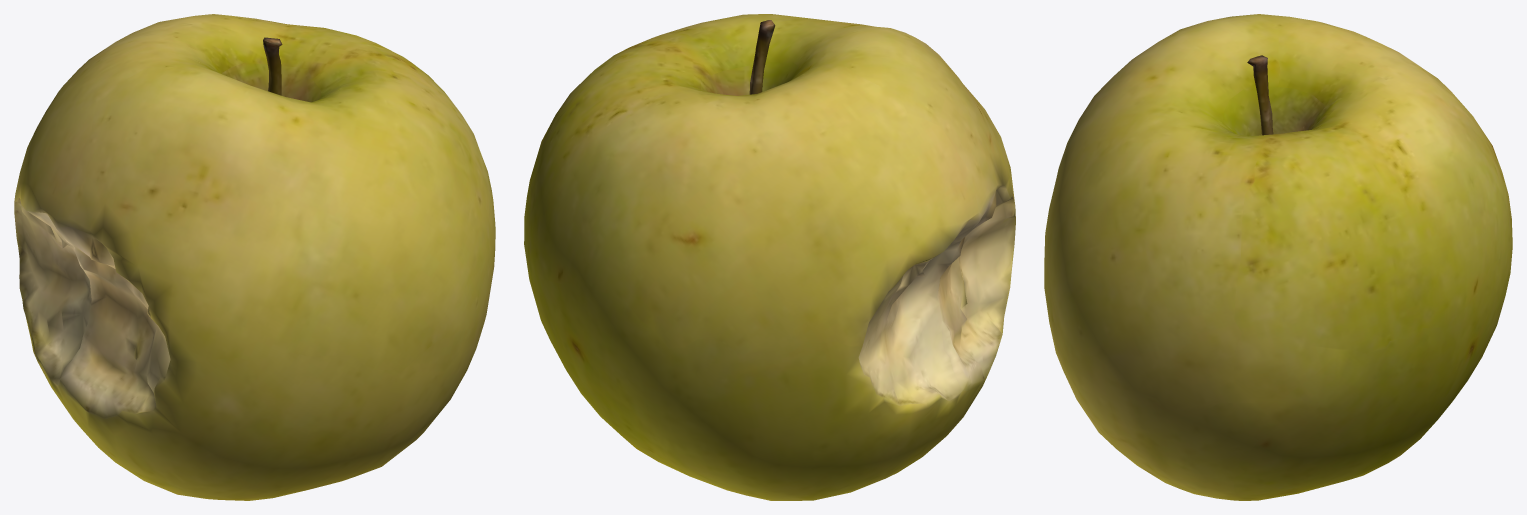
The model's file is apple_c.glb.
3 views of the same model, side by side, from view 1: azimuth 30°, elevation 25°; view 2: azimuth 150°, elevation 25°; view 3: azimuth 270°, elevation 25° (orthographic). The views are drawn at different scales.
Parts seen in each view (by area): view 1: tehuccela_LOD0_TIER2_000; view 2: tehuccela_LOD0_TIER2_000; view 3: tehuccela_LOD0_TIER2_000.
Part boxes in pixels (<box>): tehuccela_LOD0_TIER2_000: <box>14,14,495,500</box>; tehuccela_LOD0_TIER2_000: <box>524,14,1015,500</box>; tehuccela_LOD0_TIER2_000: <box>1044,14,1512,500</box>.
Size of the model in its own units: 0.0872 by 0.0846 by 0.0874.
1 material, 1 textured.
